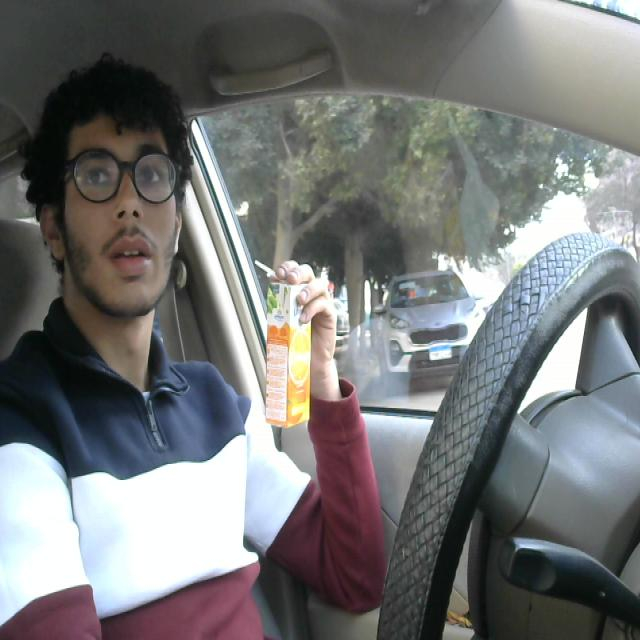drinking: (249, 259, 314, 432)
